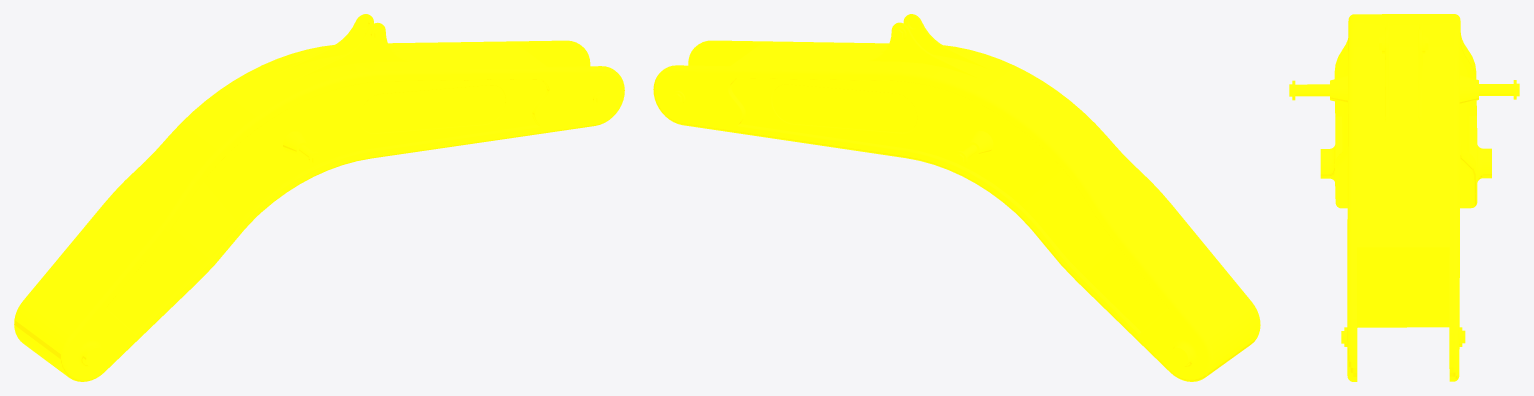
File: boom.dae
The picture shows the model from 3 angles, left to right: view 1: azimuth 30°, elevation 25°; view 2: azimuth 150°, elevation 25°; view 3: azimuth 270°, elevation 25°; orthographic projection. The views are drawn at different scales.
Parts seen in each view (by area): view 1: node; view 2: node; view 3: node.
Boxes of the visible parts, x1=… form: node: x1=14, y1=14, x2=624, y2=381; node: x1=653, y1=14, x2=1260, y2=381; node: x1=1289, y1=14, x2=1519, y2=381.
Size of the model in its own units: 5.52 by 1.37 by 2.52.
